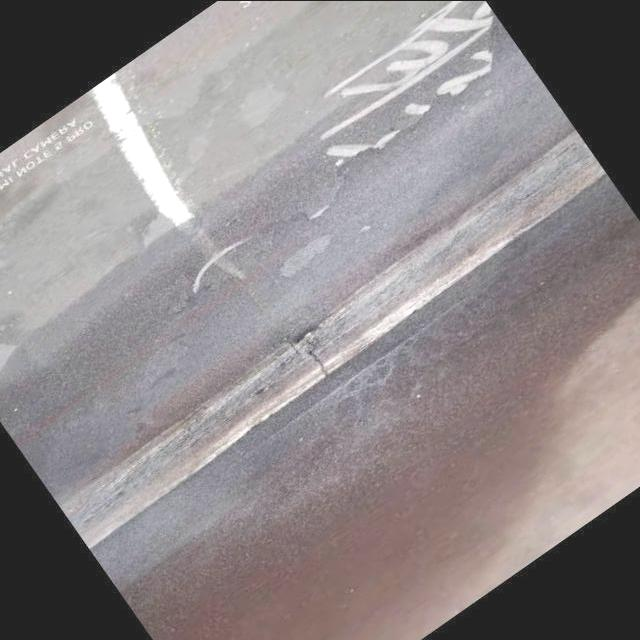defect: (306, 333, 333, 378)
